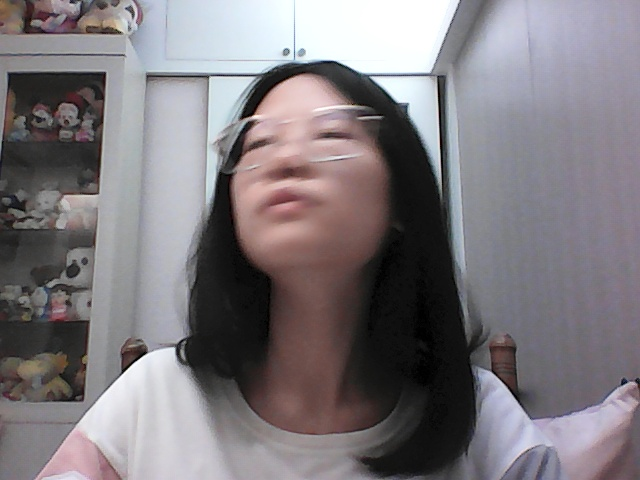NoMask: (240, 169, 378, 265)
